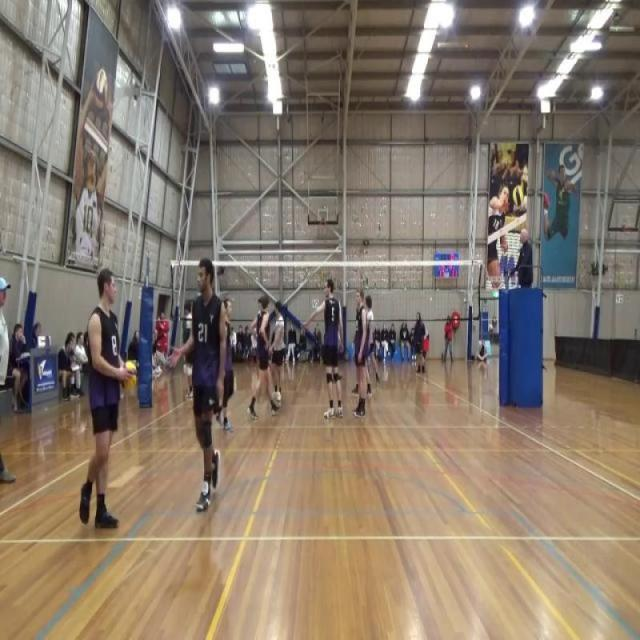volleyball: (94, 68, 108, 110), (120, 360, 137, 392), (512, 184, 525, 208)
